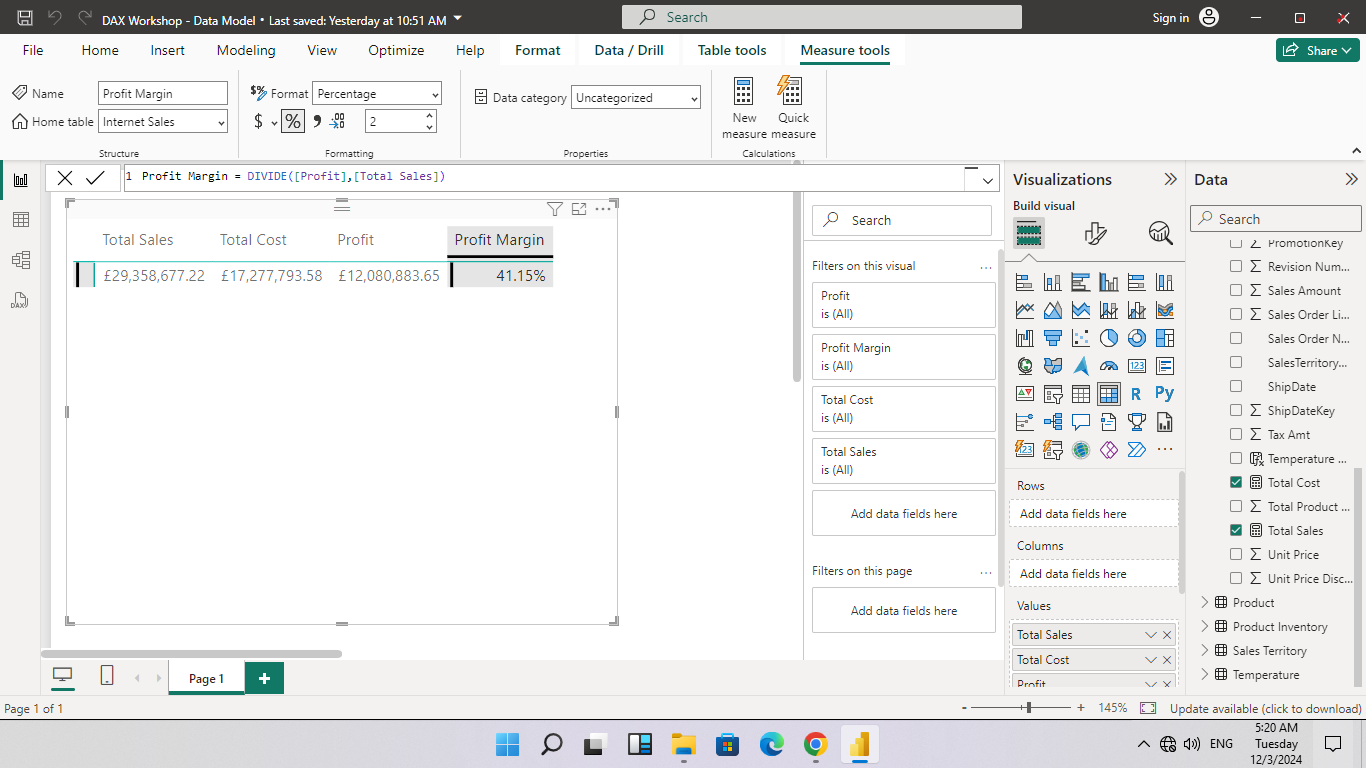

The dashboard page shown, as its layout file describes it:
{"tool":"powerbi","page":{"name":"Page 1","canvas":[1280,720],"ordinal":0},"visuals":[{"type":"pivotTable","fields":{"Values":["Internet Sales.Total Sales","Internet Sales.Total Cost","Internet Sales.Profit","Internet Sales.Profit Margin","Internet Sales.Total sales(All Countries)","Internet Sales.Total sales(Canada)","Internet Sales.Total sales(united States)","Internet Sales.Total sales(US & Canada)","Internet Sales.YTD Sales","Internet Sales.Fiscal YTD Sales","Internet Sales.YTD Sales(Weekdays)","Internet Sales.Prior Year sales"],"Rows":["Date.Year"]},"box":[10.3,20,510.3,280],"z":0}]}

Visuals, with their boxes on the page's 1280x720 design canvas (x1, y1, x2, y2). These are canvas units, not pixel positions in the 1366x768 screenshot, which may show the page scaled, cropped or inside an application window:
pivotTable - Internet Sales.Total Sales x Internet Sales.Total Cost: 10 20 521 300
